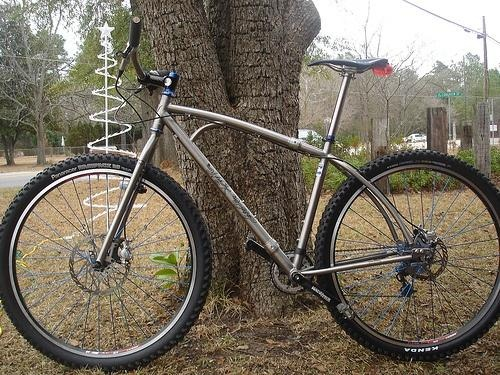bicycle: (2, 15, 500, 367)
